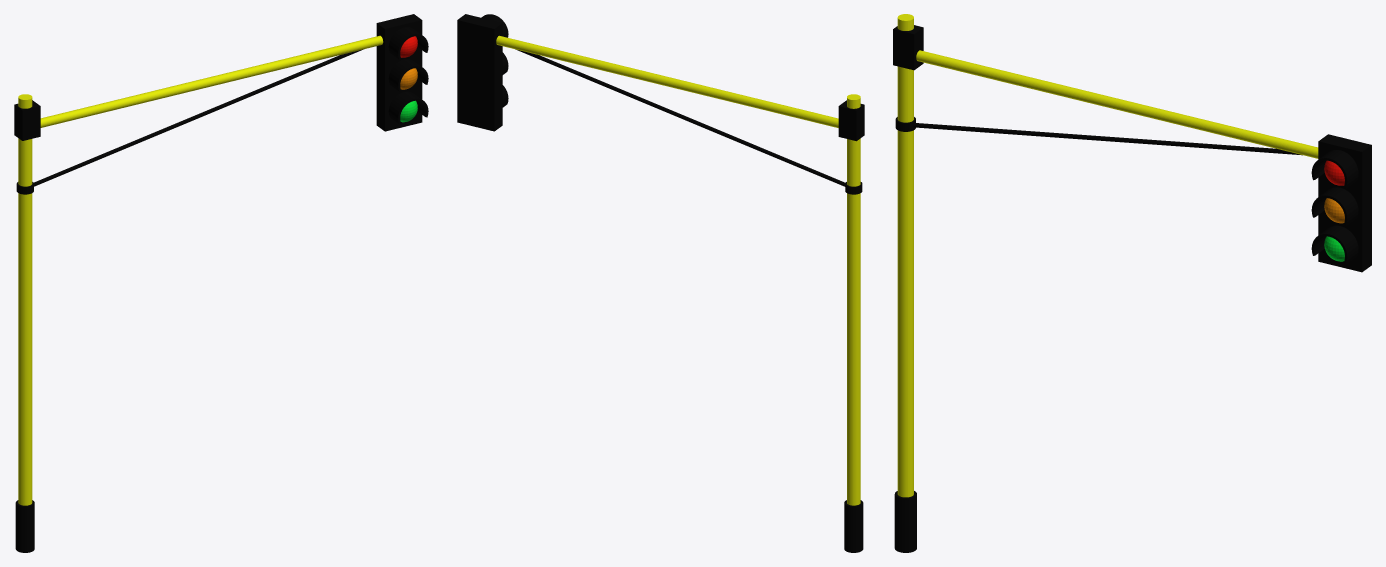
File: Traffic_light_3.fbx
3 views of the same model, side by side, from view 1: azimuth 30°, elevation 25°; view 2: azimuth 150°, elevation 25°; view 3: azimuth 330°, elevation 25° (orthographic). The views are drawn at different scales.
Visible parts, largest first — view 1: Pole.004, Pole.005, TrafficLightBox.004, Holder1.003, Cylinder.002, Cube, RedHat.004, OrangeHat.004, GreenHat.004; view 2: Pole.004, TrafficLightBox.004, Pole.005, Holder1.003, Cylinder.002, Cube; view 3: Pole.004, Pole.005, TrafficLightBox.004, Holder1.003, Cylinder.002, Cube, OrangeHat.004, GreenHat.004, RedHat.004.
Part boxes in pixels (<box>): Pole.004: <box>18,94,32,505</box>; Pole.005: <box>40,35,383,127</box>; TrafficLightBox.004: <box>376,14,422,131</box>; Holder1.003: <box>16,49,363,194</box>; Cylinder.002: <box>15,500,34,552</box>; Cube: <box>14,100,40,140</box>; RedHat.004: <box>388,27,428,59</box>; OrangeHat.004: <box>388,59,428,91</box>; GreenHat.004: <box>388,91,428,124</box>; Pole.004: <box>847,94,860,505</box>; TrafficLightBox.004: <box>457,14,502,131</box>; Pole.005: <box>496,35,838,127</box>; Holder1.003: <box>515,49,862,194</box>; Cylinder.002: <box>844,500,863,552</box>; Cube: <box>838,100,864,141</box>; Pole.004: <box>897,14,913,497</box>; Pole.005: <box>916,50,1318,158</box>; TrafficLightBox.004: <box>1318,134,1371,272</box>; Holder1.003: <box>895,117,1302,155</box>; Cylinder.002: <box>894,491,916,552</box>; Cube: <box>893,25,923,70</box>; OrangeHat.004: <box>1311,187,1358,225</box>; GreenHat.004: <box>1311,225,1358,263</box>; RedHat.004: <box>1311,150,1358,187</box>.
Bounding box in the file's own units: 429 × 462 × 34.35.
